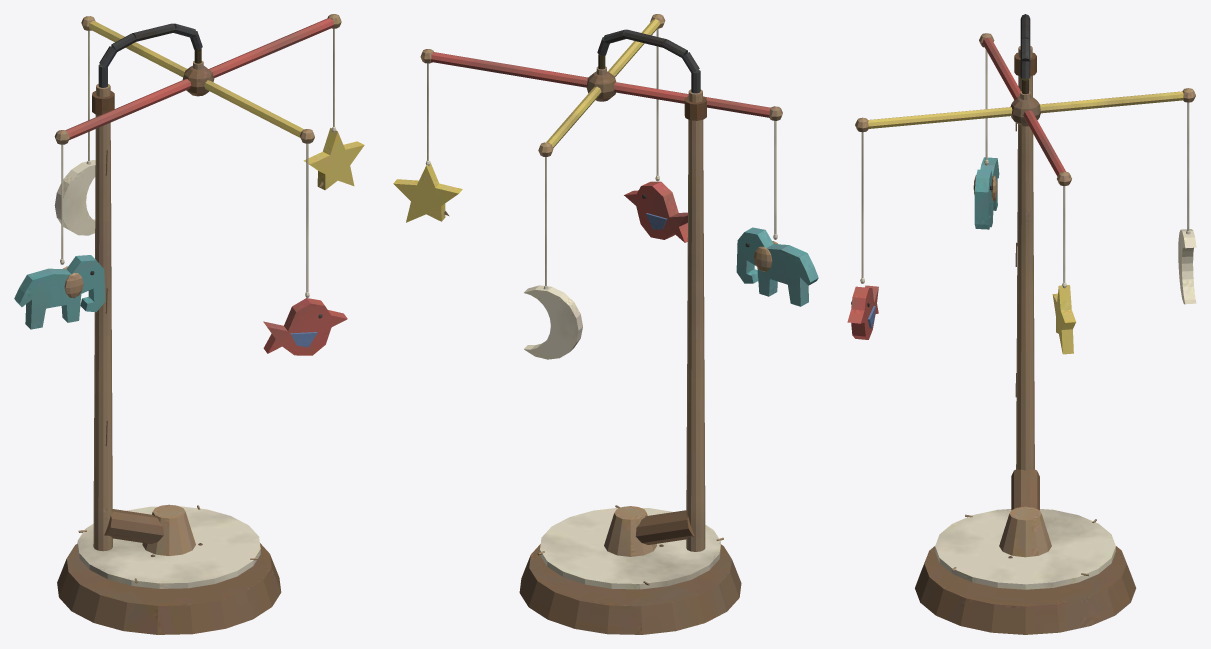
Rendered from A09_hanging_toy_mobile.glb.
3 renders of one model, left to right at view 1: azimuth 30°, elevation 25°; view 2: azimuth 150°, elevation 25°; view 3: azimuth 270°, elevation 25°, orthographic.
Visible parts, largest first — view 1: Weighted circular foot; view 2: Weighted circular foot; view 3: Weighted circular foot.
Part boxes in pixels (x1=…): Weighted circular foot: x1=14, y1=14, x2=364, y2=634; Weighted circular foot: x1=393, y1=14, x2=818, y2=634; Weighted circular foot: x1=847, y1=14, x2=1196, y2=634.
Size of the model in its own units: 0.7166 by 1 by 0.5722.
12 materials, 12 textured.
